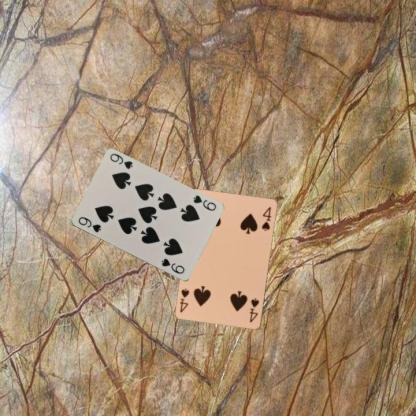4s: (246, 296, 260, 323)
9s: (190, 192, 217, 212), (76, 214, 102, 233)
